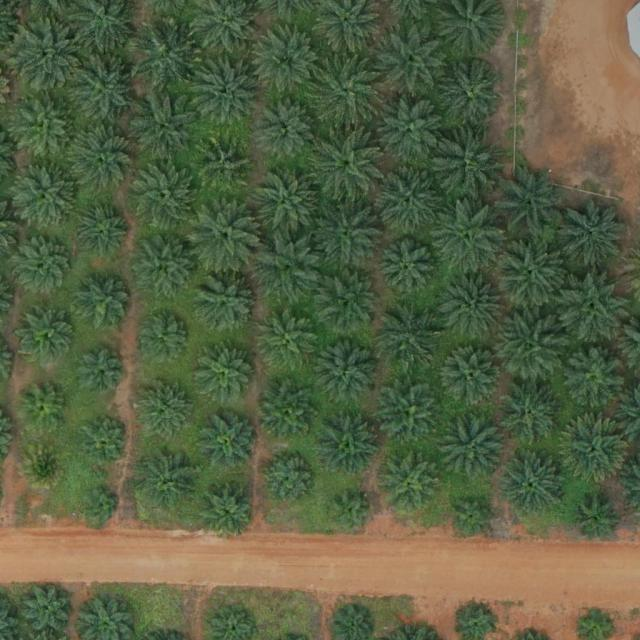Healthy: (560, 200, 631, 271), (559, 273, 630, 344), (312, 131, 383, 202), (69, 54, 140, 125), (12, 21, 82, 92), (130, 20, 200, 91), (377, 26, 447, 97), (310, 56, 380, 127), (497, 170, 567, 241), (497, 236, 567, 307), (434, 202, 504, 273), (436, 131, 506, 202), (251, 165, 322, 235), (376, 96, 446, 167), (191, 54, 261, 125), (131, 91, 201, 162), (561, 419, 631, 489), (253, 27, 323, 97), (495, 314, 565, 384), (374, 168, 444, 238), (312, 197, 382, 267), (255, 232, 325, 302), (191, 200, 261, 270), (128, 162, 198, 232), (502, 453, 565, 516), (317, 340, 380, 403), (259, 308, 322, 371), (195, 272, 258, 335), (70, 126, 133, 189), (500, 386, 562, 449), (441, 276, 503, 339), (442, 346, 504, 409), (442, 414, 504, 477), (379, 304, 441, 367), (380, 383, 442, 446), (380, 453, 442, 516), (321, 273, 383, 336), (318, 416, 380, 479), (259, 381, 321, 444), (195, 344, 257, 407), (135, 237, 197, 300), (15, 95, 77, 158), (14, 165, 77, 227), (13, 234, 75, 297), (441, 64, 503, 126), (563, 349, 625, 411), (197, 480, 259, 542), (138, 449, 200, 511), (263, 453, 318, 508), (198, 138, 253, 193), (73, 203, 128, 258), (77, 278, 132, 333), (260, 103, 315, 158), (21, 309, 76, 364), (380, 243, 434, 298), (203, 415, 257, 470), (137, 309, 191, 364), (138, 379, 192, 434), (20, 582, 74, 637), (82, 417, 129, 465), (574, 498, 621, 545)
Small: (21, 387, 68, 435), (77, 349, 124, 397), (329, 489, 376, 537), (451, 494, 498, 541), (83, 488, 122, 527)
Yellow: (22, 443, 69, 490)
